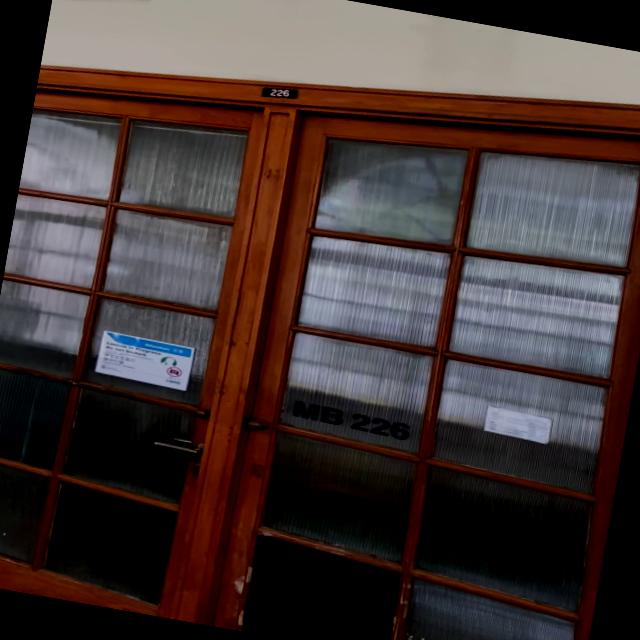room226: (257, 81, 301, 103)
room226Window: (285, 398, 414, 442)
